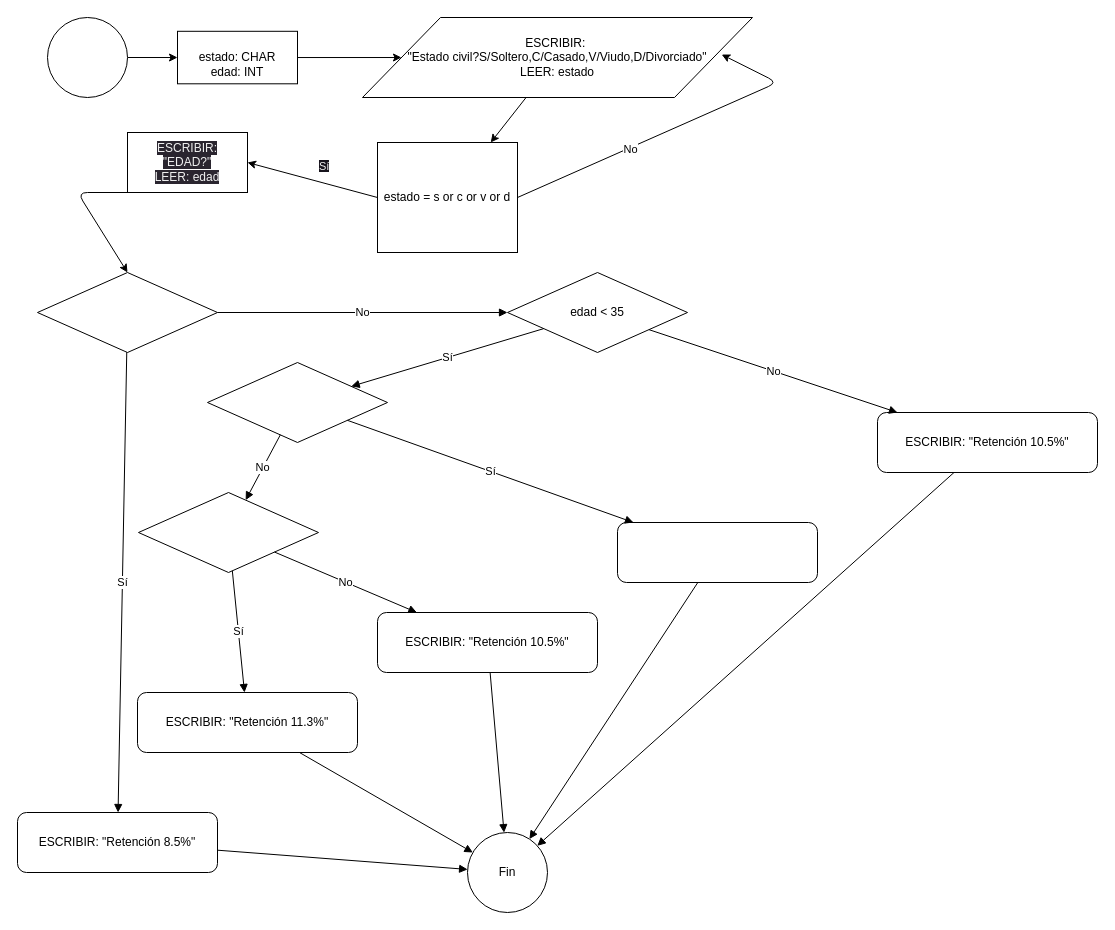
Image size: 1115x930. Some labels were removed from this diagram. Here are the shapes that lost their labels. From the top down, the box of each, then its label:
(46, 16, 128, 98): Inicio
(36, 272, 218, 352): edad > 50
(206, 362, 388, 442): estado = s or d
(138, 492, 318, 572): estado = v or c
(616, 522, 818, 582): ESCRIBIR: "Retención 12%"
